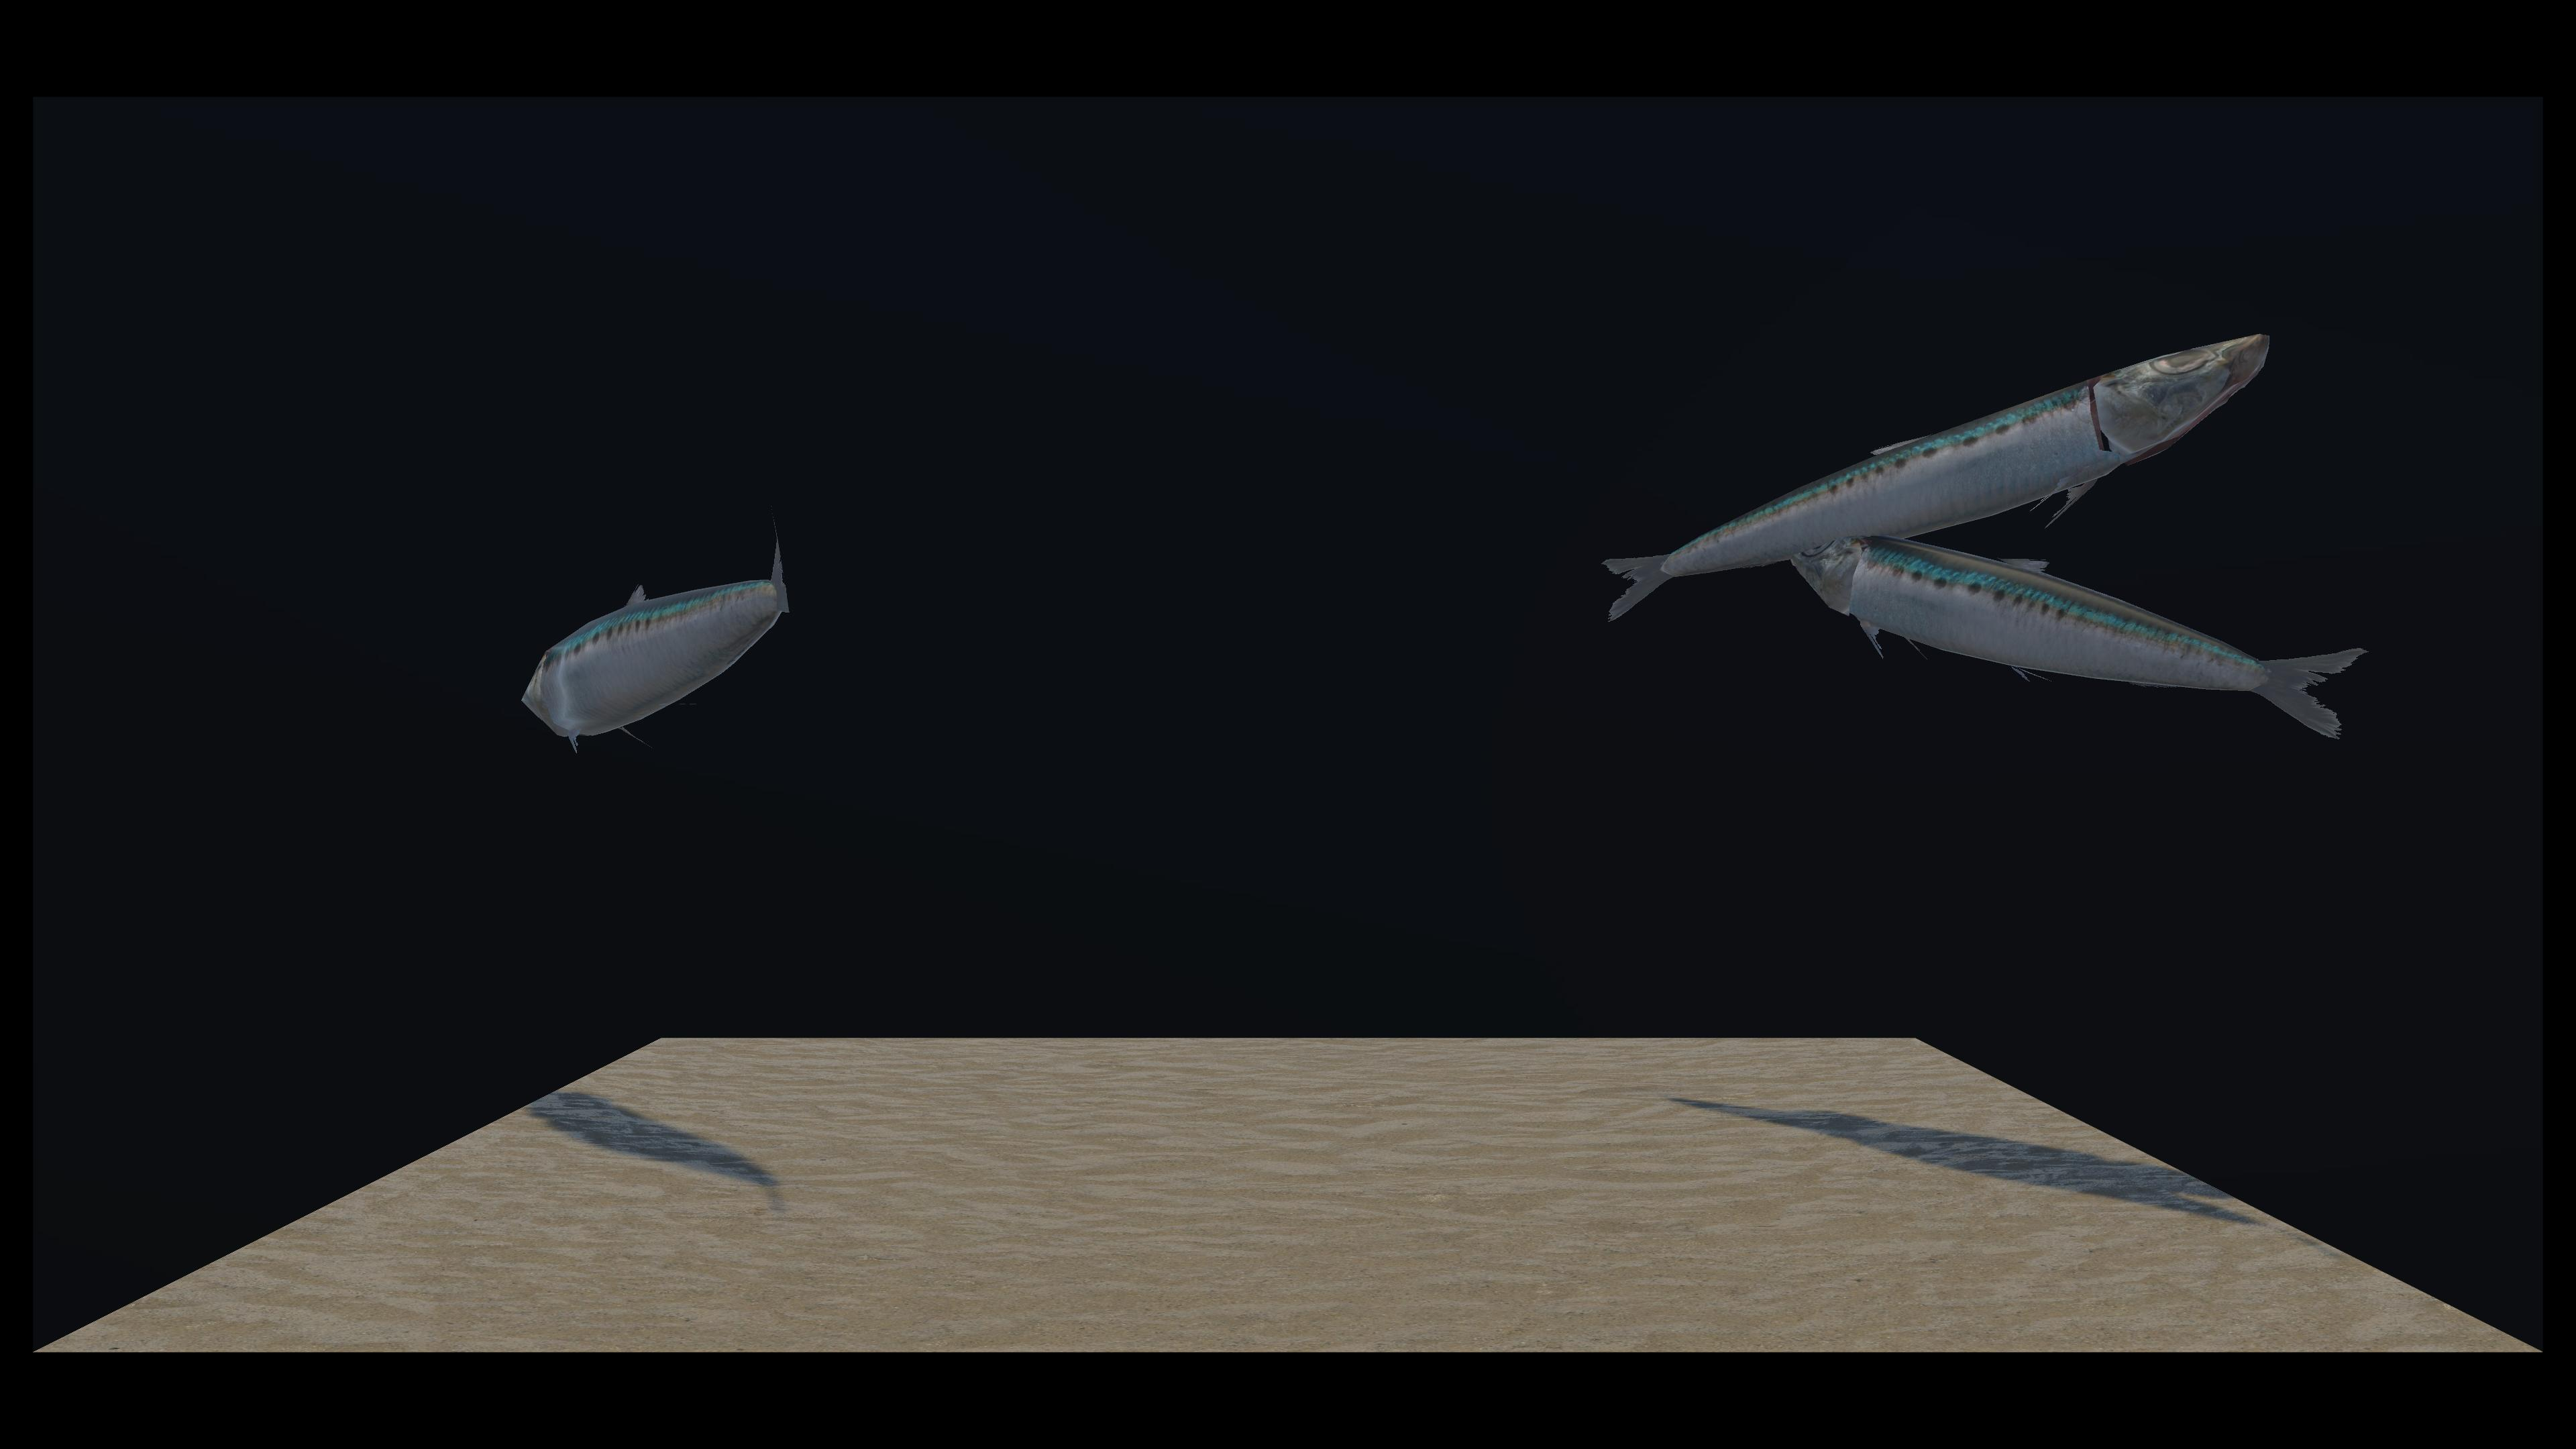Sardine_Front: (991, 336, 2259, 619), (913, 531, 2369, 740), (534, 426, 971, 759)
